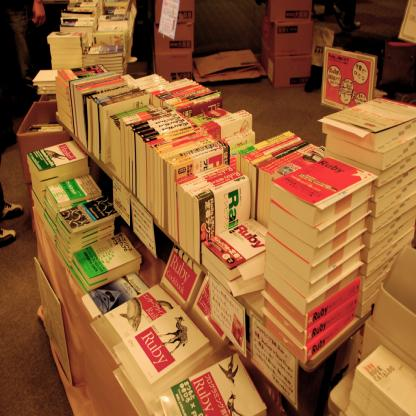book: (23, 0, 416, 416), (104, 295, 212, 391)
